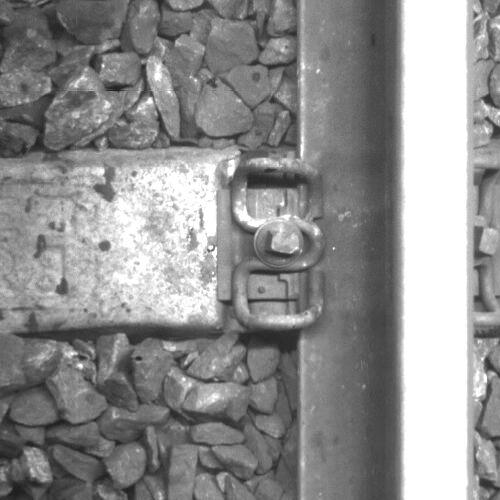rail: (399, 1, 475, 500)
tie_concr: (1, 153, 292, 327)
vossloh: (217, 155, 330, 330)
